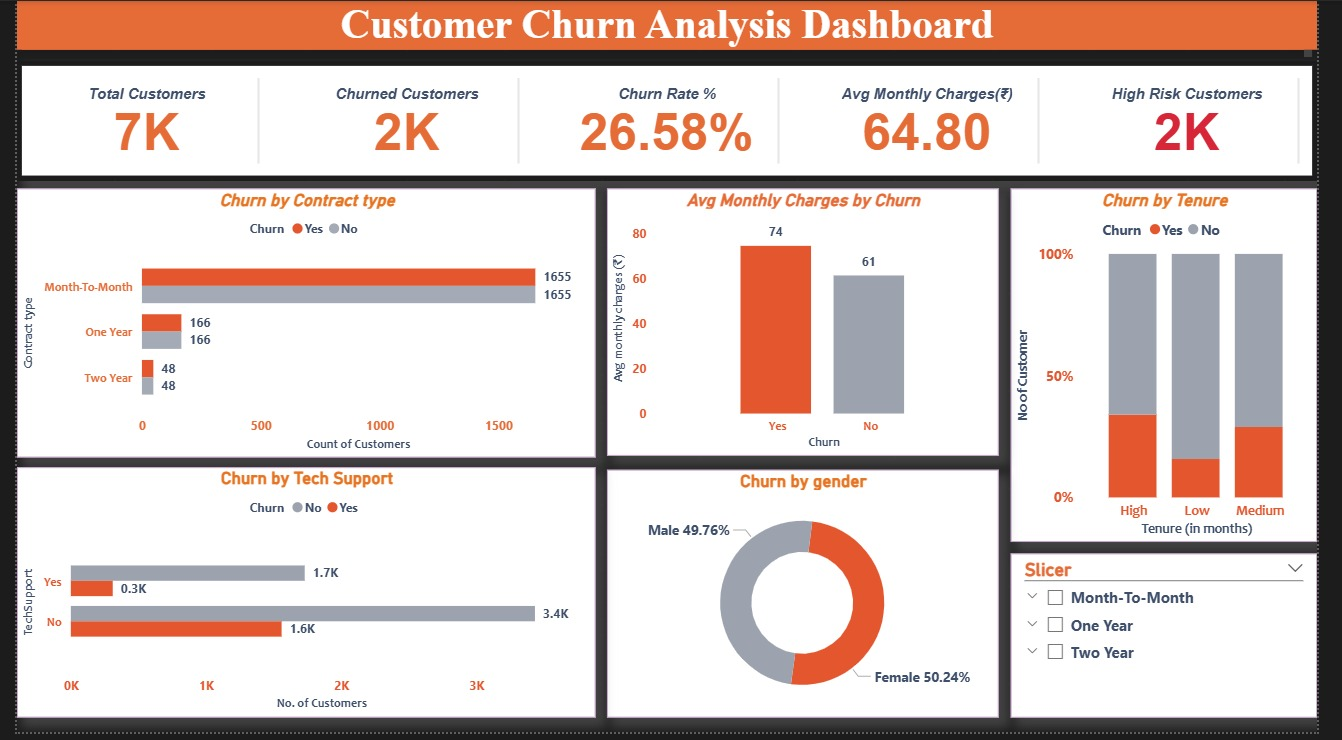

The dashboard page shown, as its layout file describes it:
{"tool":"powerbi","page":{"name":"Dashboard cust_churn","canvas":[1280,720],"ordinal":0},"visuals":[{"type":"cardVisual","fields":{"Data":["Telco-Customer-Churn.Total Customers","Telco-Customer-Churn.Churned Customers","Telco-Customer-Churn.Churn Rate %","Telco-Customer-Churn.Avg Monthly Charges","Telco-Customer-Churn.High Risk Customers"]},"box":[0,59.1,1280,118.2],"z":1000},{"type":"clusteredBarChart","title":"Churn by Contract type","fields":{"Category":["Telco-Customer-Churn.Contract"],"Series":["Telco-Customer-Churn.Churn"],"Y":["Telco-Customer-Churn.Churned Customers"]},"box":[0,184.6,569.8,264.6],"z":2000},{"type":"hundredPercentStackedColumnChart","title":"Churn by Tenure","fields":{"Category":["Telco-Customer-Churn.Tenure Band"],"Y":["CountNonNull(Telco-Customer-Churn.customerID)"],"Series":["Telco-Customer-Churn.Churn"]},"box":[978.5,184.6,301.5,348.3],"z":3000},{"type":"clusteredColumnChart","title":"Avg Monthly Charges by Churn","fields":{"Category":["Telco-Customer-Churn.Churn"],"Y":["Telco-Customer-Churn.Avg Monthly Charges"]},"box":[580.9,184.6,385.2,263.4],"z":4000},{"type":"donutChart","title":"Churn by gender","fields":{"Category":["Telco-Customer-Churn.gender"],"Y":["CountNonNull(Telco-Customer-Churn.customerID)"]},"box":[580.9,461.5,385.2,243.7],"z":5000},{"type":"clusteredBarChart","title":"Churn by Tech Support","fields":{"Category":["Telco-Customer-Churn.TechSupport"],"Y":["CountNonNull(Telco-Customer-Churn.customerID)"],"Series":["Telco-Customer-Churn.Churn"]},"box":[0,459.1,569.8,246.2],"z":6000},{"type":"slicer","fields":{"Values":["Telco-Customer-Churn.Contract","Telco-Customer-Churn.PaymentMethod","Telco-Customer-Churn.Tenure Group","Telco-Customer-Churn.InternetService","Telco-Customer-Churn.gender"]},"box":[978.5,544,301.5,161.2],"z":7000},{"type":"textbox","title":"Customer Churn Analysis Dashboard","box":[0,0,1280,60],"z":7500}]}

Visuals, with their boxes in screenshot pixels (x1, y1, x2, y2), scaled from the page's 1280x720 canvas onto the 1342x740 screenshot:
cardVisual - Telco-Customer-Churn.Total Customers x Telco-Customer-Churn.Churned Customers: box=[0, 61, 1341, 182]
"Churn by Contract type" clusteredBarChart: box=[0, 190, 597, 462]
"Churn by Tenure" hundredPercentStackedColumnChart: box=[1026, 190, 1341, 548]
"Avg Monthly Charges by Churn" clusteredColumnChart: box=[609, 190, 1013, 460]
"Churn by gender" donutChart: box=[609, 474, 1013, 725]
"Churn by Tech Support" clusteredBarChart: box=[0, 472, 597, 725]
slicer - Telco-Customer-Churn.Contract x Telco-Customer-Churn.PaymentMethod: box=[1026, 559, 1341, 725]
"Customer Churn Analysis Dashboard" textbox: box=[0, 0, 1341, 62]
